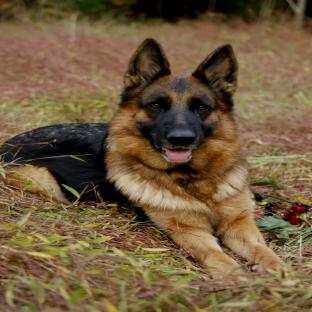Animal: (0, 38, 284, 276)
